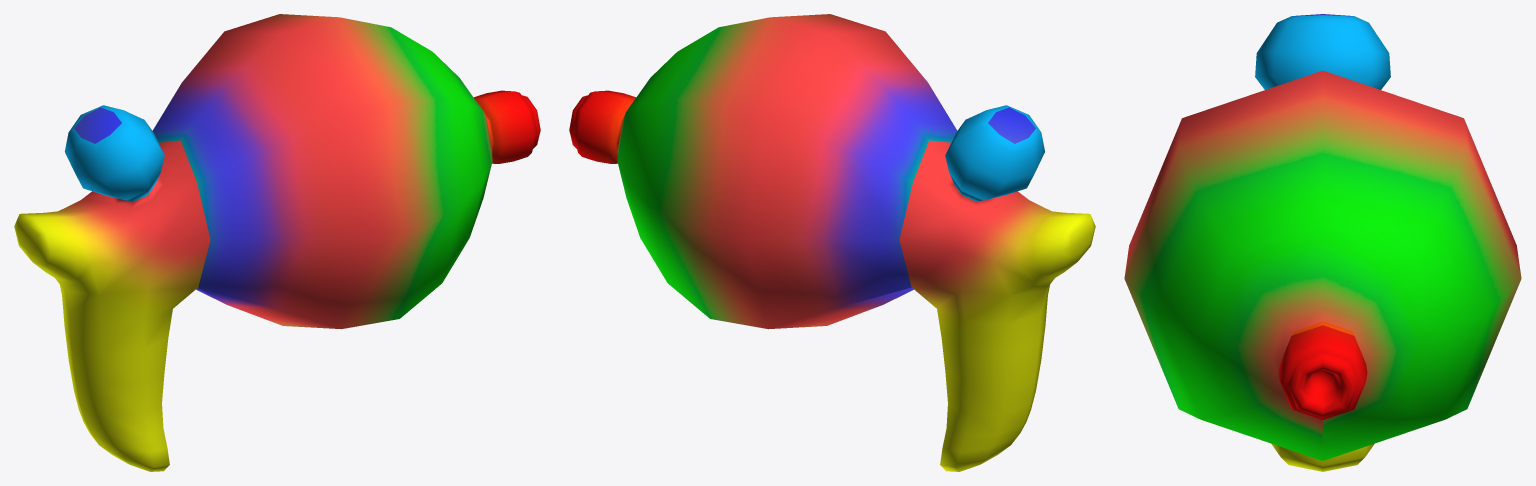
The model's file is Arma1.fbx.
3 renders of one model, left to right at view 1: azimuth 30°, elevation 25°; view 2: azimuth 150°, elevation 25°; view 3: azimuth 270°, elevation 25°, orthographic. The views are drawn at different scales.
Visible parts, largest first — view 1: Cube; view 2: Cube; view 3: Cube.
Part boxes in pixels (x1=…): Cube: x1=14, y1=14, x2=540, y2=471; Cube: x1=569, y1=14, x2=1095, y2=471; Cube: x1=1124, y1=14, x2=1521, y2=471.
Size of the model in its own units: 979 by 747 by 558.
